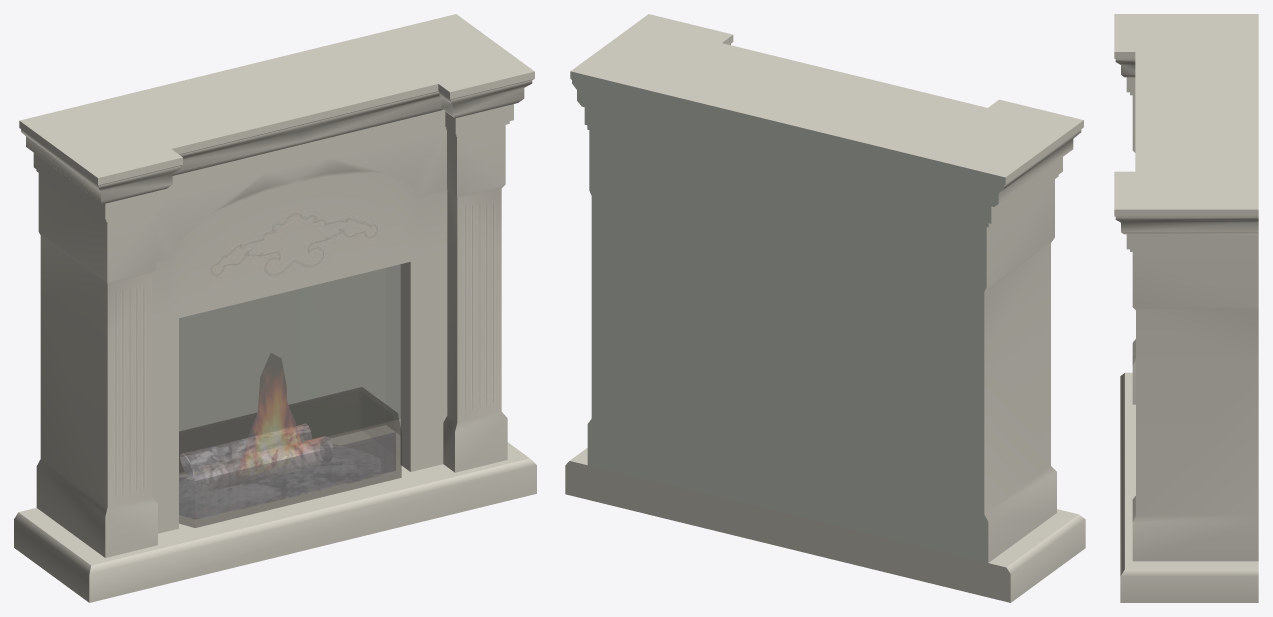
The model's file is fireplace-ghost.glb.
3 renders of one model, left to right at view 1: azimuth 30°, elevation 25°; view 2: azimuth 150°, elevation 25°; view 3: azimuth 270°, elevation 25°, orthographic. The views are drawn at different scales.
Parts seen in each view (by area): view 1: Object_4, Object_3, Object_5, Object_8, Object_7, Object_6; view 2: Object_3, Object_4; view 3: Object_4.
Boxes of the visible parts, box(x1,y1,x2,y2) form: Object_4: box(14, 14, 536, 602); Object_3: box(179, 264, 400, 472); Object_5: box(179, 265, 400, 431); Object_8: box(179, 387, 401, 527); Object_7: box(180, 423, 333, 492); Object_6: box(238, 353, 302, 470); Object_3: box(570, 71, 1005, 562); Object_4: box(565, 14, 1085, 602); Object_4: box(1114, 14, 1258, 602).
Bounding box in the file's own units: 1.26 × 1.15 × 0.3849.
Materials: 4 (4 with a texture image).
